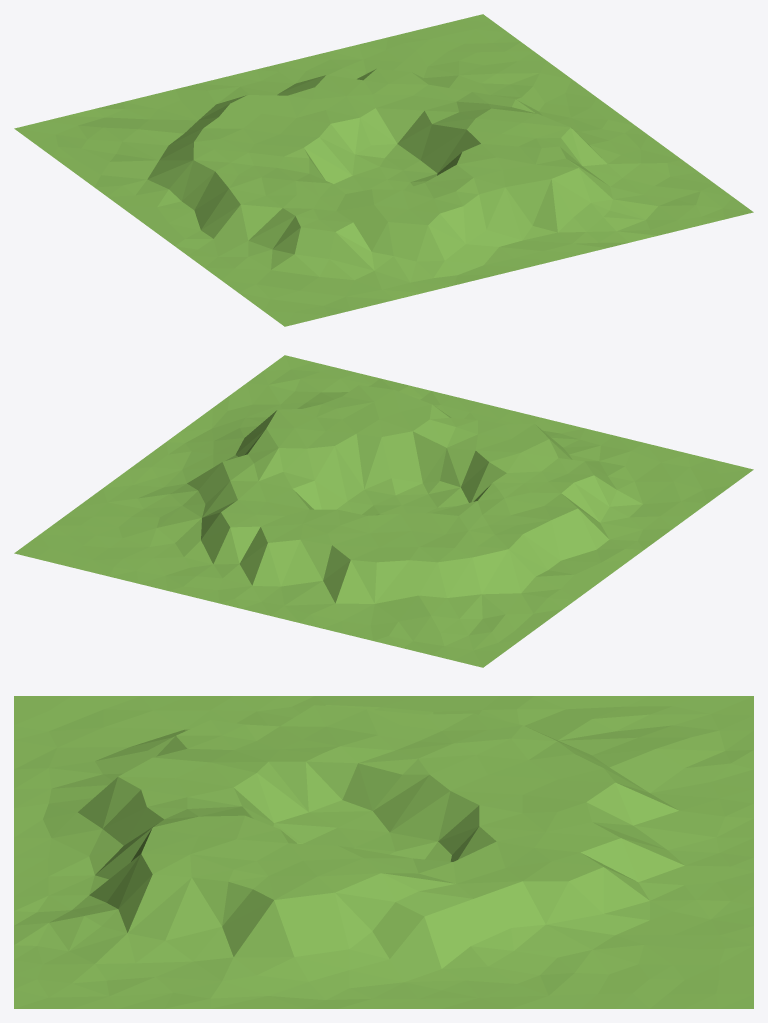
File: MT_Terrain_M_c_20.fbx
3 renders of one model, top to bottom at view 1: azimuth 30°, elevation 25°; view 2: azimuth 150°, elevation 25°; view 3: azimuth 270°, elevation 25°, orthographic. The views are drawn at different scales.
Visible parts, largest first — view 1: MT_Terrain_M_c_20; view 2: MT_Terrain_M_c_20; view 3: MT_Terrain_M_c_20.
Boxes of the visible parts, bbox=[...] form: MT_Terrain_M_c_20: bbox=[14, 14, 753, 326]; MT_Terrain_M_c_20: bbox=[14, 355, 753, 667]; MT_Terrain_M_c_20: bbox=[14, 696, 753, 1008].
Size of the model in its own units: 5000 by 403 by 5000.
